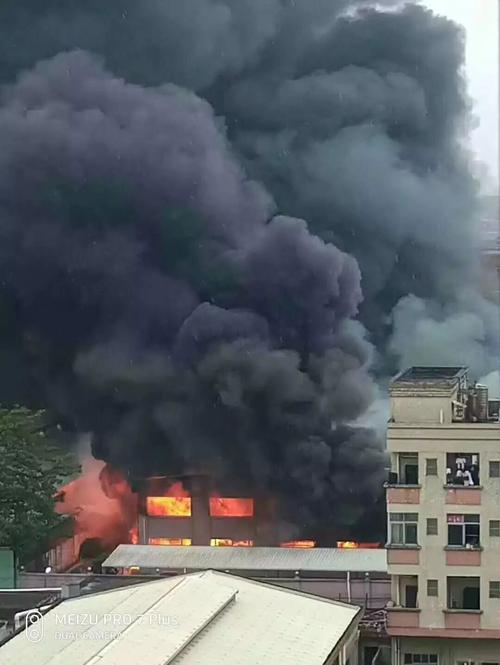fire: (67, 470, 324, 542)
smoke: (12, 12, 383, 458)
